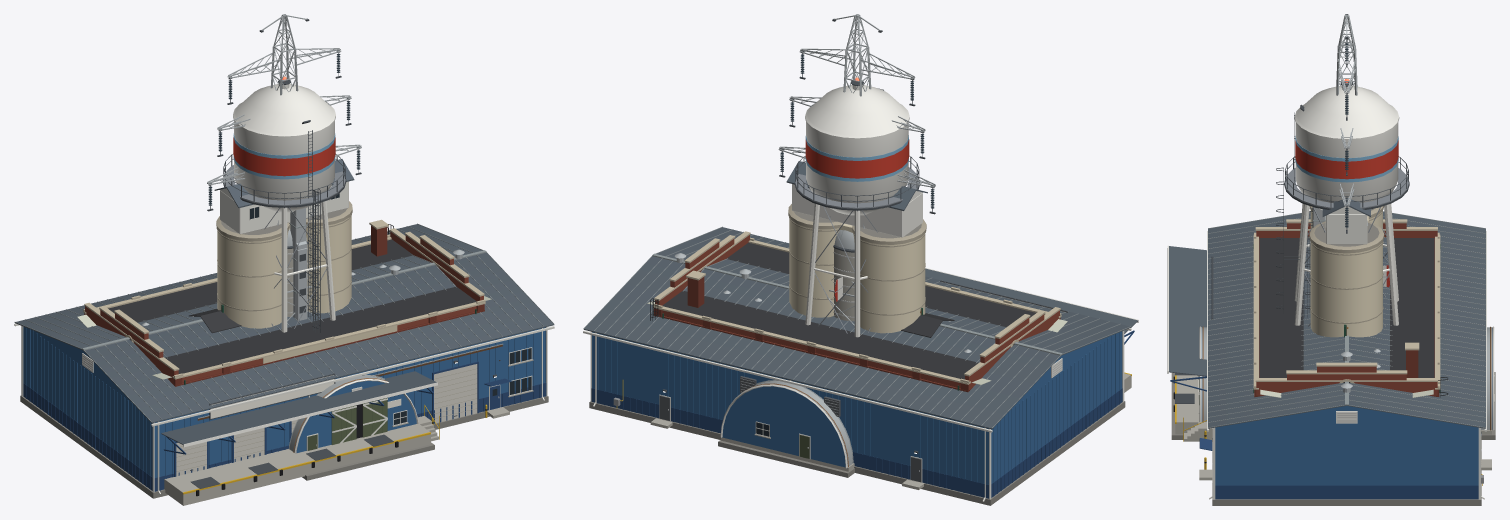
File: structures.glb
3 views of the same model, side by side, from view 1: azimuth 30°, elevation 25°; view 2: azimuth 150°, elevation 25°; view 3: azimuth 270°, elevation 25° (orthographic).
Visible parts, largest first — view 1: warehouse_steel, warehouse_brick, water_tower_town, silo_pair_elevator, warehouse_quonset, hv_pylon, grain_silo; view 2: warehouse_steel, warehouse_brick, water_tower_town, silo_pair_elevator, warehouse_quonset, hv_pylon, grain_silo; view 3: warehouse_steel, warehouse_brick, water_tower_town, silo_pair_elevator, warehouse_quonset, hv_pylon.
Part boxes in pixels (bbox=[...]): warehouse_steel: bbox=[14, 223, 554, 505]; warehouse_brick: bbox=[83, 219, 503, 420]; water_tower_town: bbox=[222, 76, 346, 333]; silo_pair_elevator: bbox=[214, 159, 354, 328]; warehouse_quonset: bbox=[288, 374, 434, 480]; hv_pylon: bbox=[207, 14, 361, 321]; grain_silo: bbox=[287, 229, 317, 320]; warehouse_steel: bbox=[583, 226, 1138, 505]; warehouse_brick: bbox=[650, 231, 1061, 392]; water_tower_town: bbox=[794, 77, 920, 337]; silo_pair_elevator: bbox=[786, 161, 927, 333]; warehouse_quonset: bbox=[718, 380, 854, 477]; hv_pylon: bbox=[778, 14, 935, 325]; grain_silo: bbox=[833, 230, 854, 321]; warehouse_steel: bbox=[1167, 211, 1491, 505]; warehouse_brick: bbox=[1253, 219, 1448, 397]; water_tower_town: bbox=[1276, 79, 1409, 326]; silo_pair_elevator: bbox=[1304, 198, 1384, 337]; warehouse_quonset: bbox=[1171, 326, 1495, 439]; hv_pylon: bbox=[1336, 14, 1367, 233].
Bounding box in the file's own units: 39.03 × 39.14 × 27.15.
